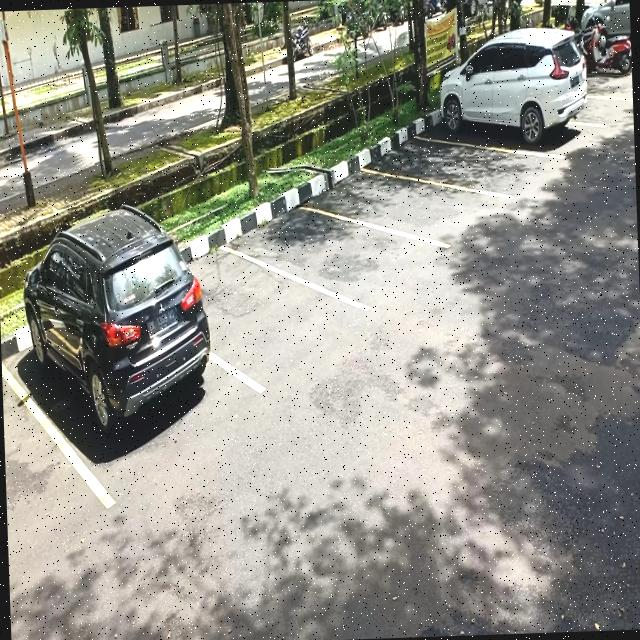empty: (204, 248, 317, 380), (276, 203, 404, 309), (346, 167, 454, 244), (403, 134, 508, 194)
occupied: (20, 257, 216, 477), (436, 64, 578, 162)
